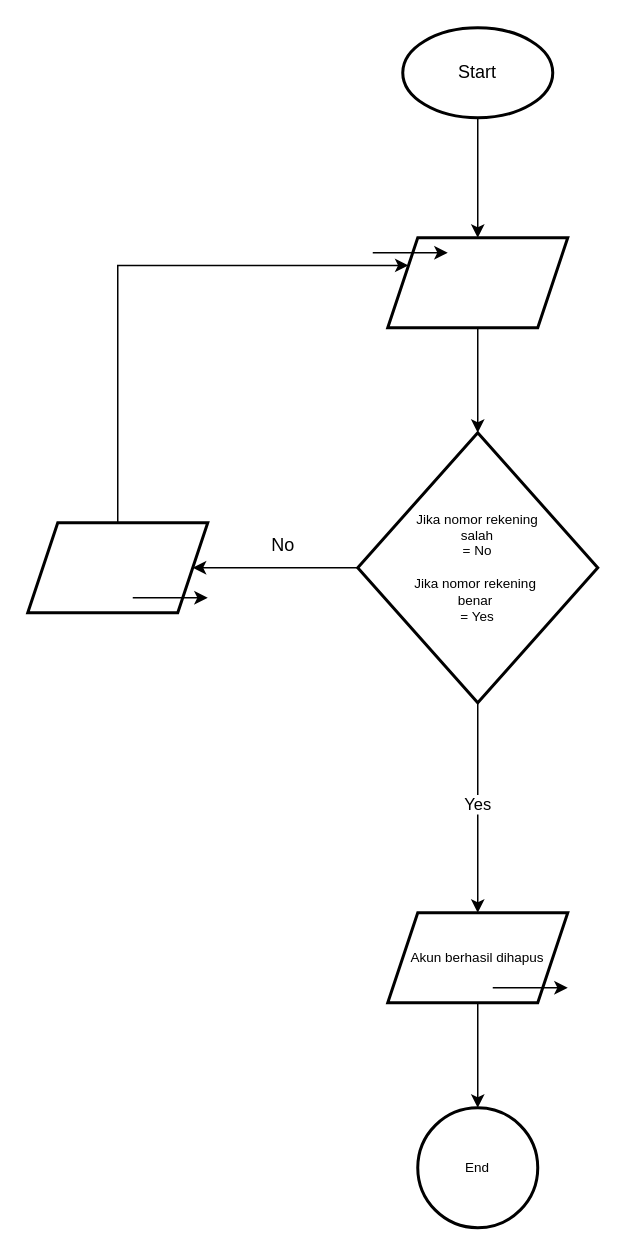
The diagram is 624 pixels wide and 1254 high, and some of its shapes have lost their labels. The centre of each missing label's shape, as x and y in pixels:
"Masukkan Nomor Rekening" goes at (x=477, y=282).
"Nomor rekening tidak ditemukan.Coba lagi." goes at (x=117, y=567).
